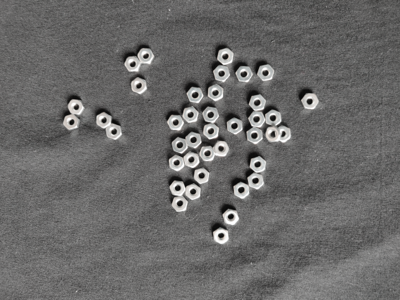nut: (249, 94, 267, 111), (302, 93, 319, 110), (258, 65, 275, 82), (236, 66, 253, 83), (203, 107, 220, 124), (203, 123, 220, 140), (172, 137, 189, 154), (106, 123, 123, 140), (247, 127, 263, 145), (214, 227, 230, 245), (167, 115, 185, 131), (266, 110, 282, 127), (266, 126, 282, 143), (248, 173, 264, 190), (234, 182, 250, 199), (249, 112, 266, 128), (223, 209, 239, 226), (227, 118, 243, 135), (213, 141, 230, 157), (218, 48, 234, 65), (214, 65, 230, 82), (194, 168, 210, 185), (187, 87, 204, 103), (183, 106, 199, 123), (186, 132, 202, 149), (169, 155, 185, 172), (169, 181, 186, 197), (172, 196, 188, 213), (125, 56, 142, 72), (131, 77, 147, 94), (68, 99, 85, 115), (63, 115, 80, 131), (209, 84, 224, 102), (250, 157, 266, 173), (200, 146, 216, 162), (184, 152, 200, 168), (138, 49, 155, 64), (97, 112, 112, 129), (186, 184, 201, 200), (279, 126, 292, 143)
